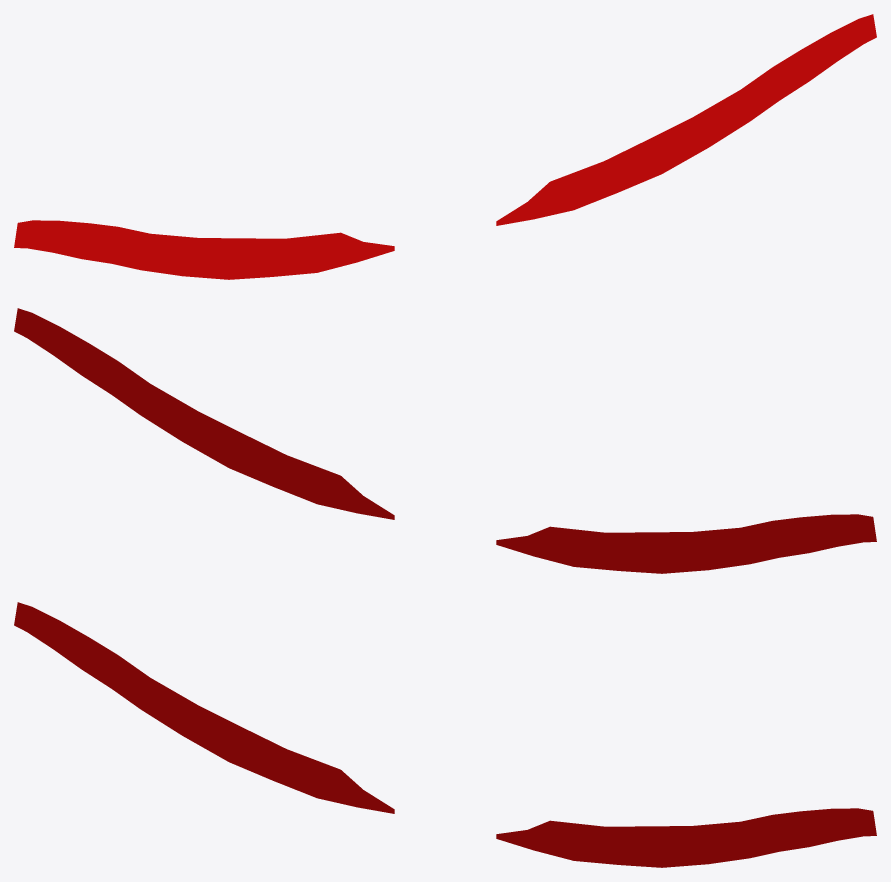
File: frame95.fbx
The picture shows the model from 3 angles, top to bottom: view 1: azimuth 30°, elevation 25°; view 2: azimuth 150°, elevation 25°; view 3: azimuth 330°, elevation 25°; orthographic projection.
Parts seen in each view (by area): view 1: MaterialLayer; view 2: MaterialLayer; view 3: MaterialLayer.
Part boxes in pixels (x1,y1,x2,y2): MaterialLayer: [14, 14, 876, 279]; MaterialLayer: [14, 308, 876, 573]; MaterialLayer: [14, 602, 876, 867].
Bounding box in the file's own units: 1345 × 183 × 6.71e-05.
